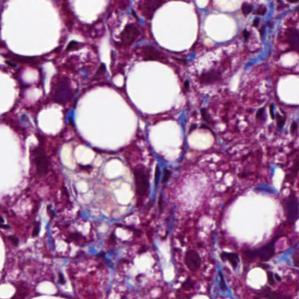inflammation: (214, 249, 246, 296), (239, 2, 270, 43), (254, 103, 289, 134)
